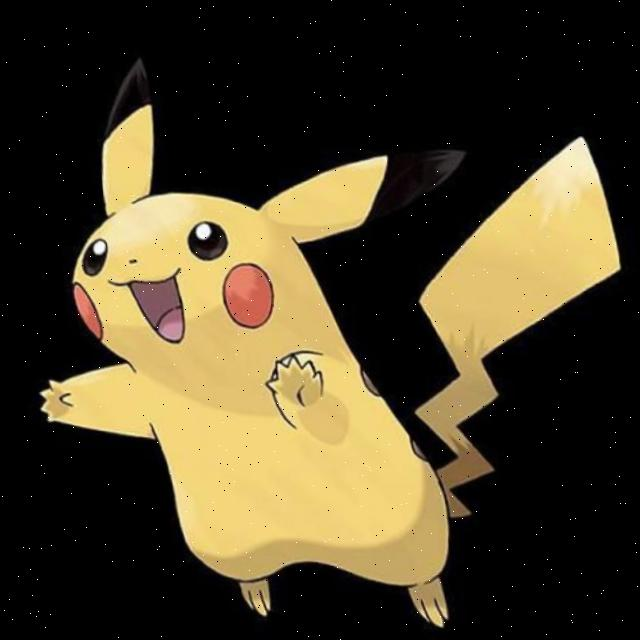Pikachu: (1, 6, 640, 640)
